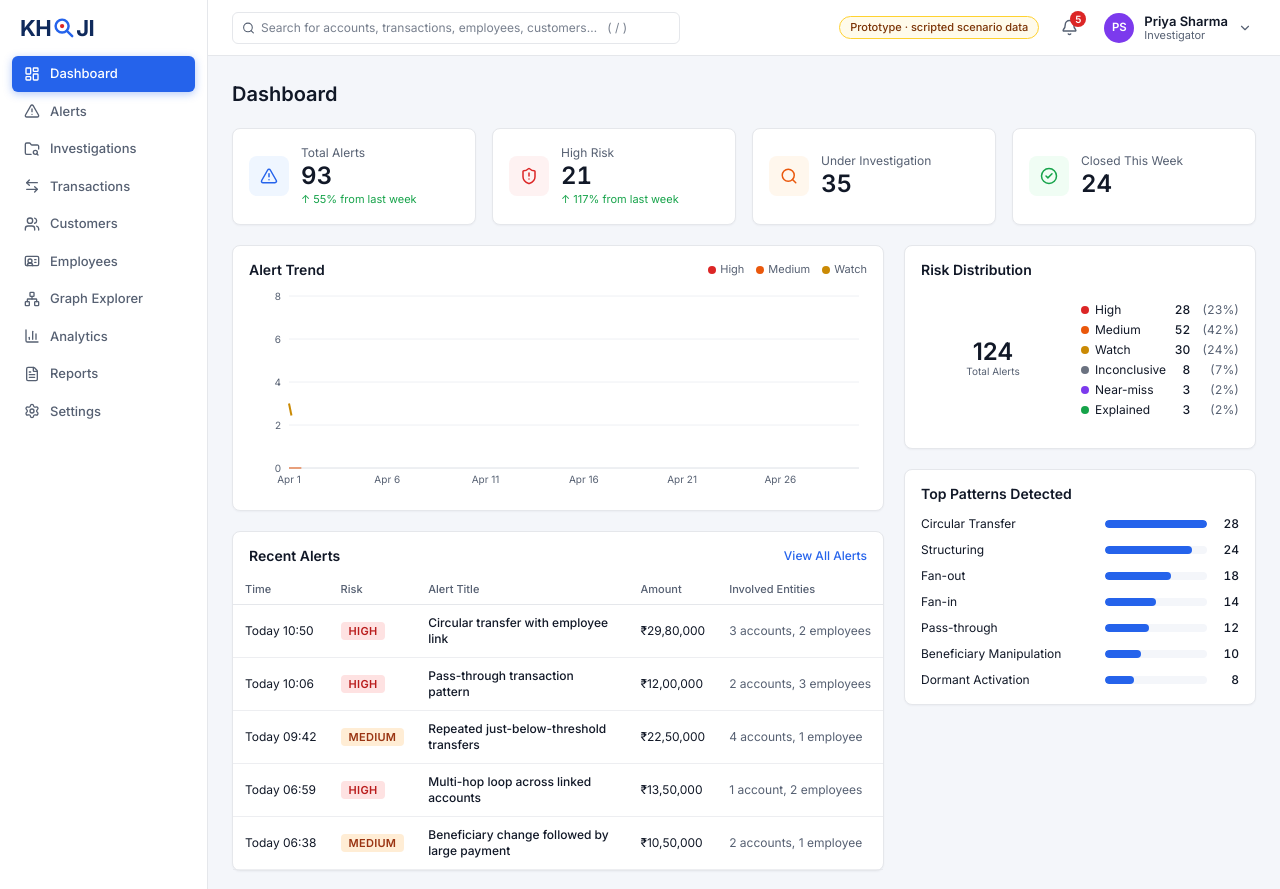
it: global search UI › bell lists the 5 most recent HIGH alerts and clears unread on open
Expected: the text with test id "bell-unread" reads "5", [1075,12,1081,24]
What coordinates should you click on to do the following:
click the button named "Notifications"
I would click on:
 (1070, 28)
Its box is [1055,13,1084,42].
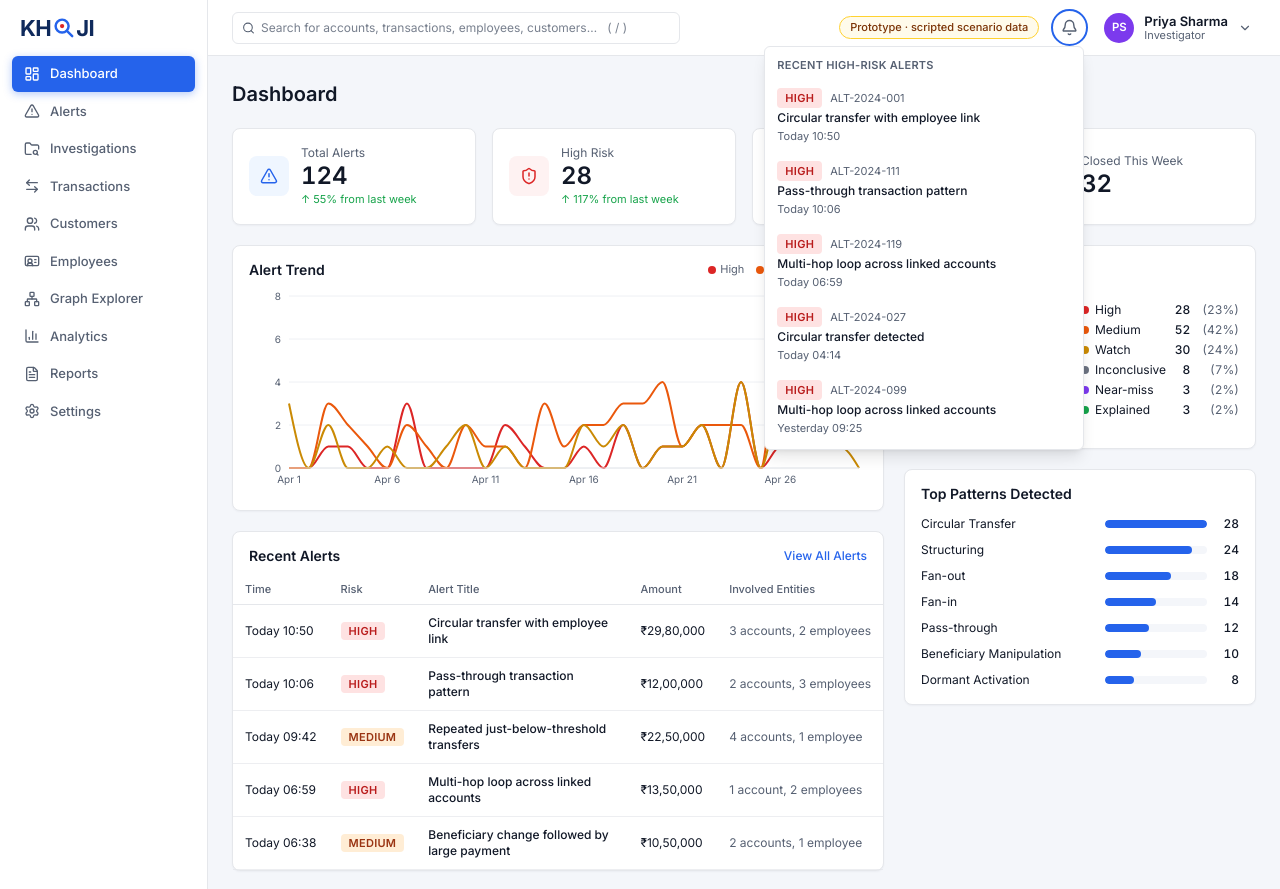
Expected: the text with test id "bell-unread" is gone
